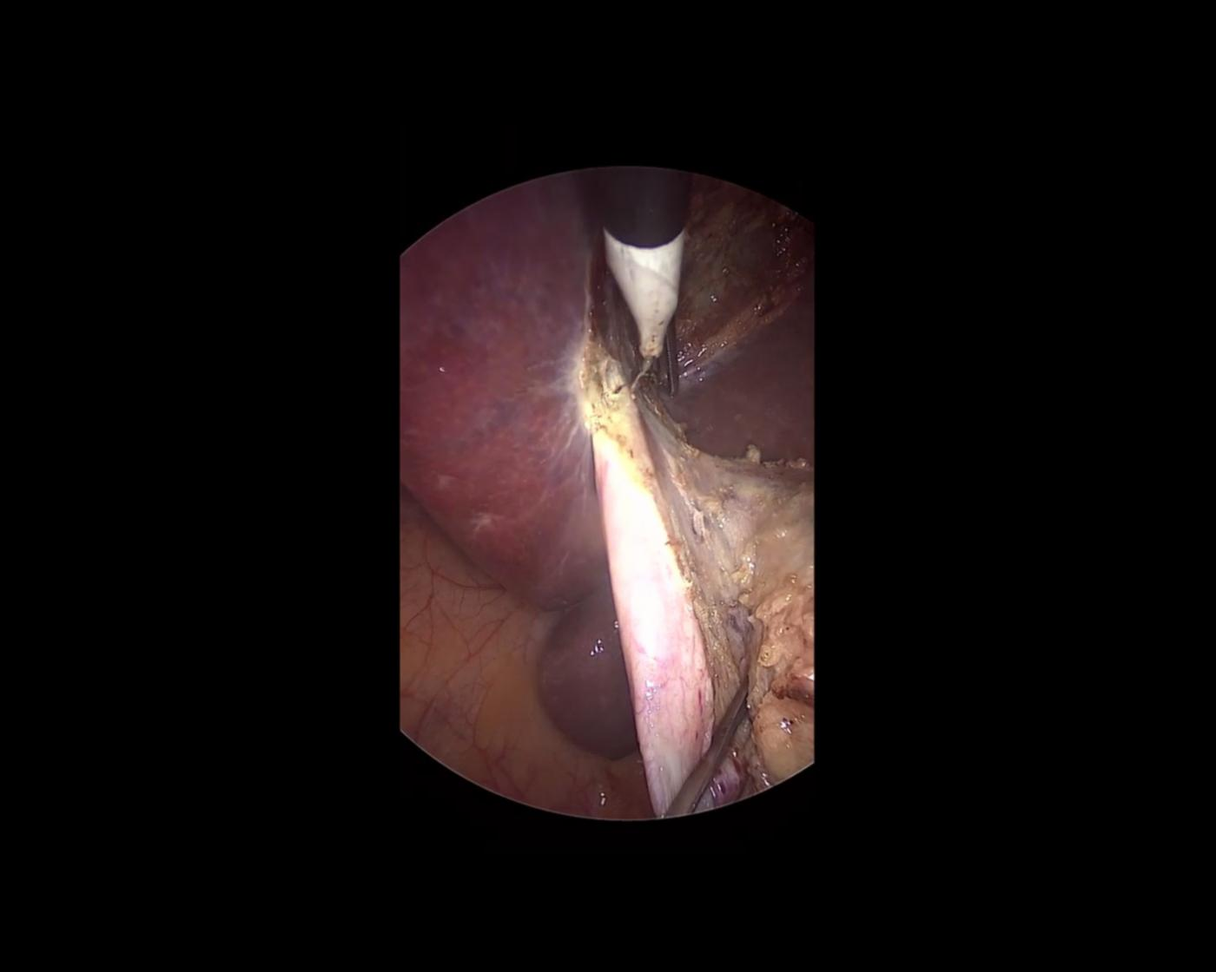Cautery: (589, 165, 693, 394)
Forceps: (665, 670, 761, 824), (662, 314, 678, 398)
Gallbladder: (585, 368, 848, 819)
Liver: (382, 169, 640, 775), (667, 276, 814, 462)
